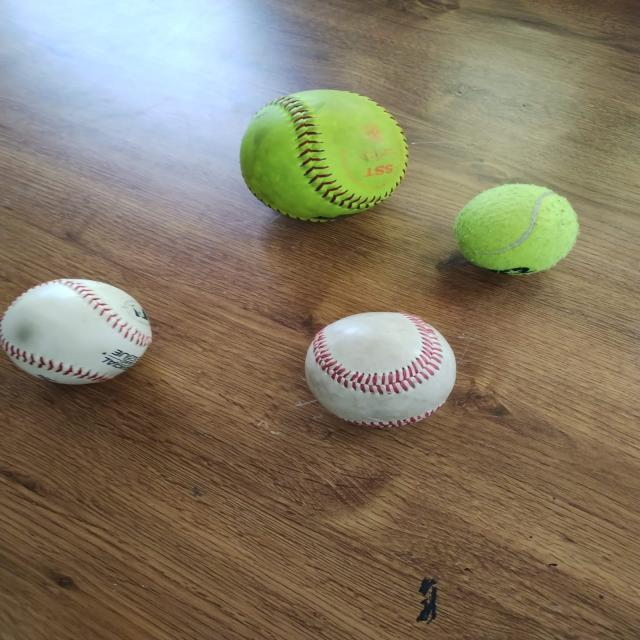beisbol ball: (303, 312, 458, 428), (0, 277, 156, 387)
softball ball: (239, 90, 412, 221)
tenis ball: (452, 182, 580, 274)
